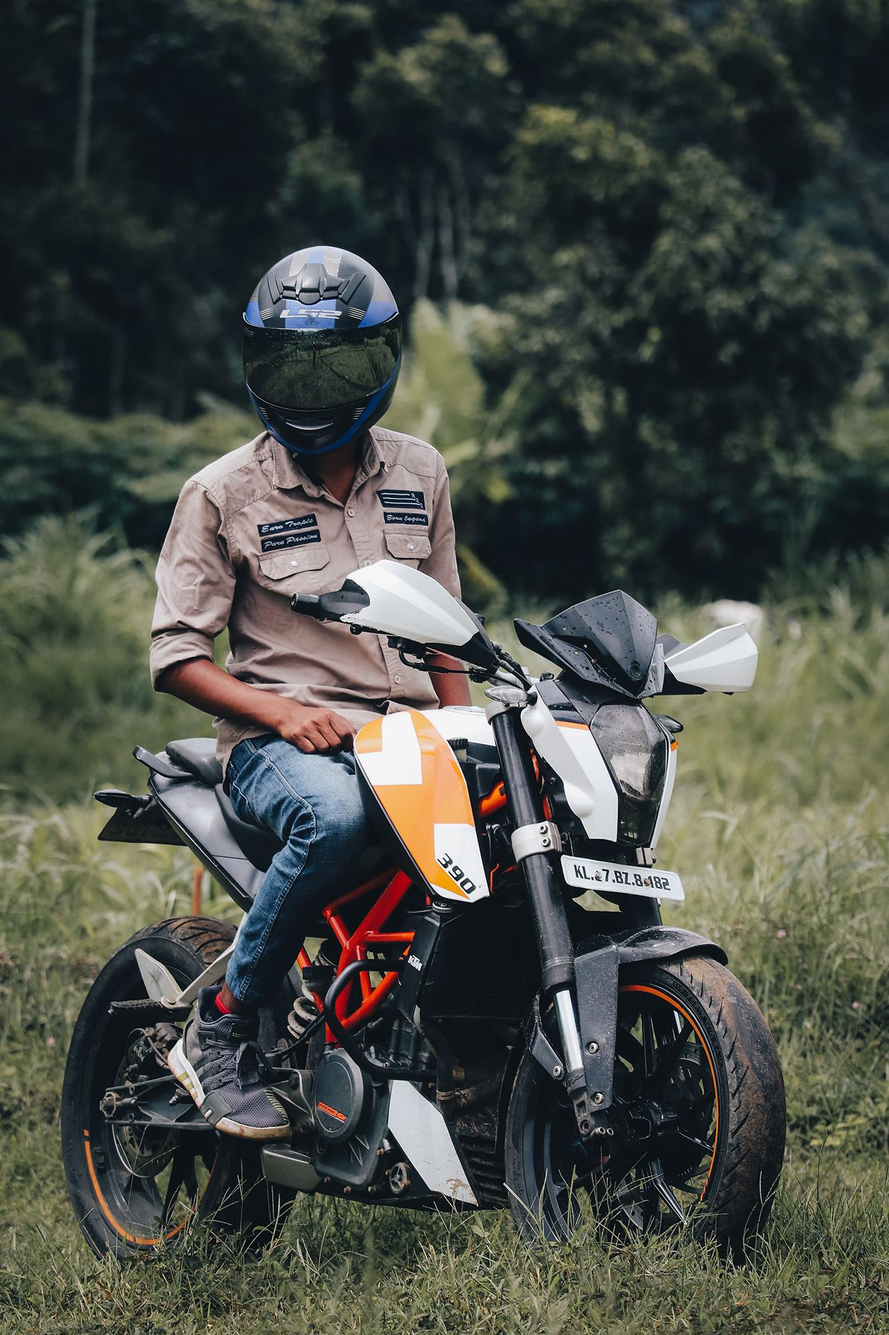helmet: (240, 244, 403, 458)
